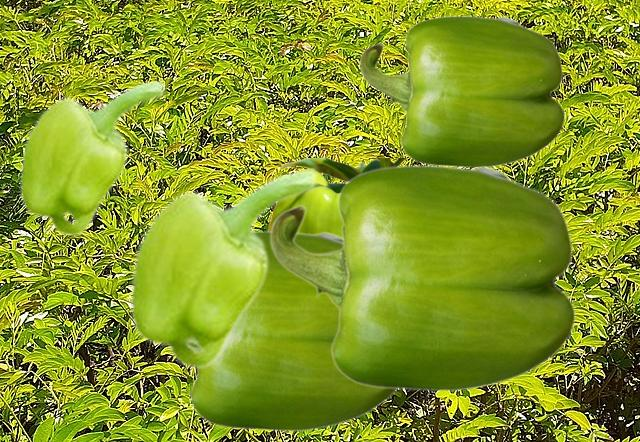bell_pepper: (269, 164, 575, 391), (189, 230, 397, 431), (128, 168, 318, 369), (359, 15, 564, 166), (18, 79, 166, 236), (267, 158, 407, 233)
